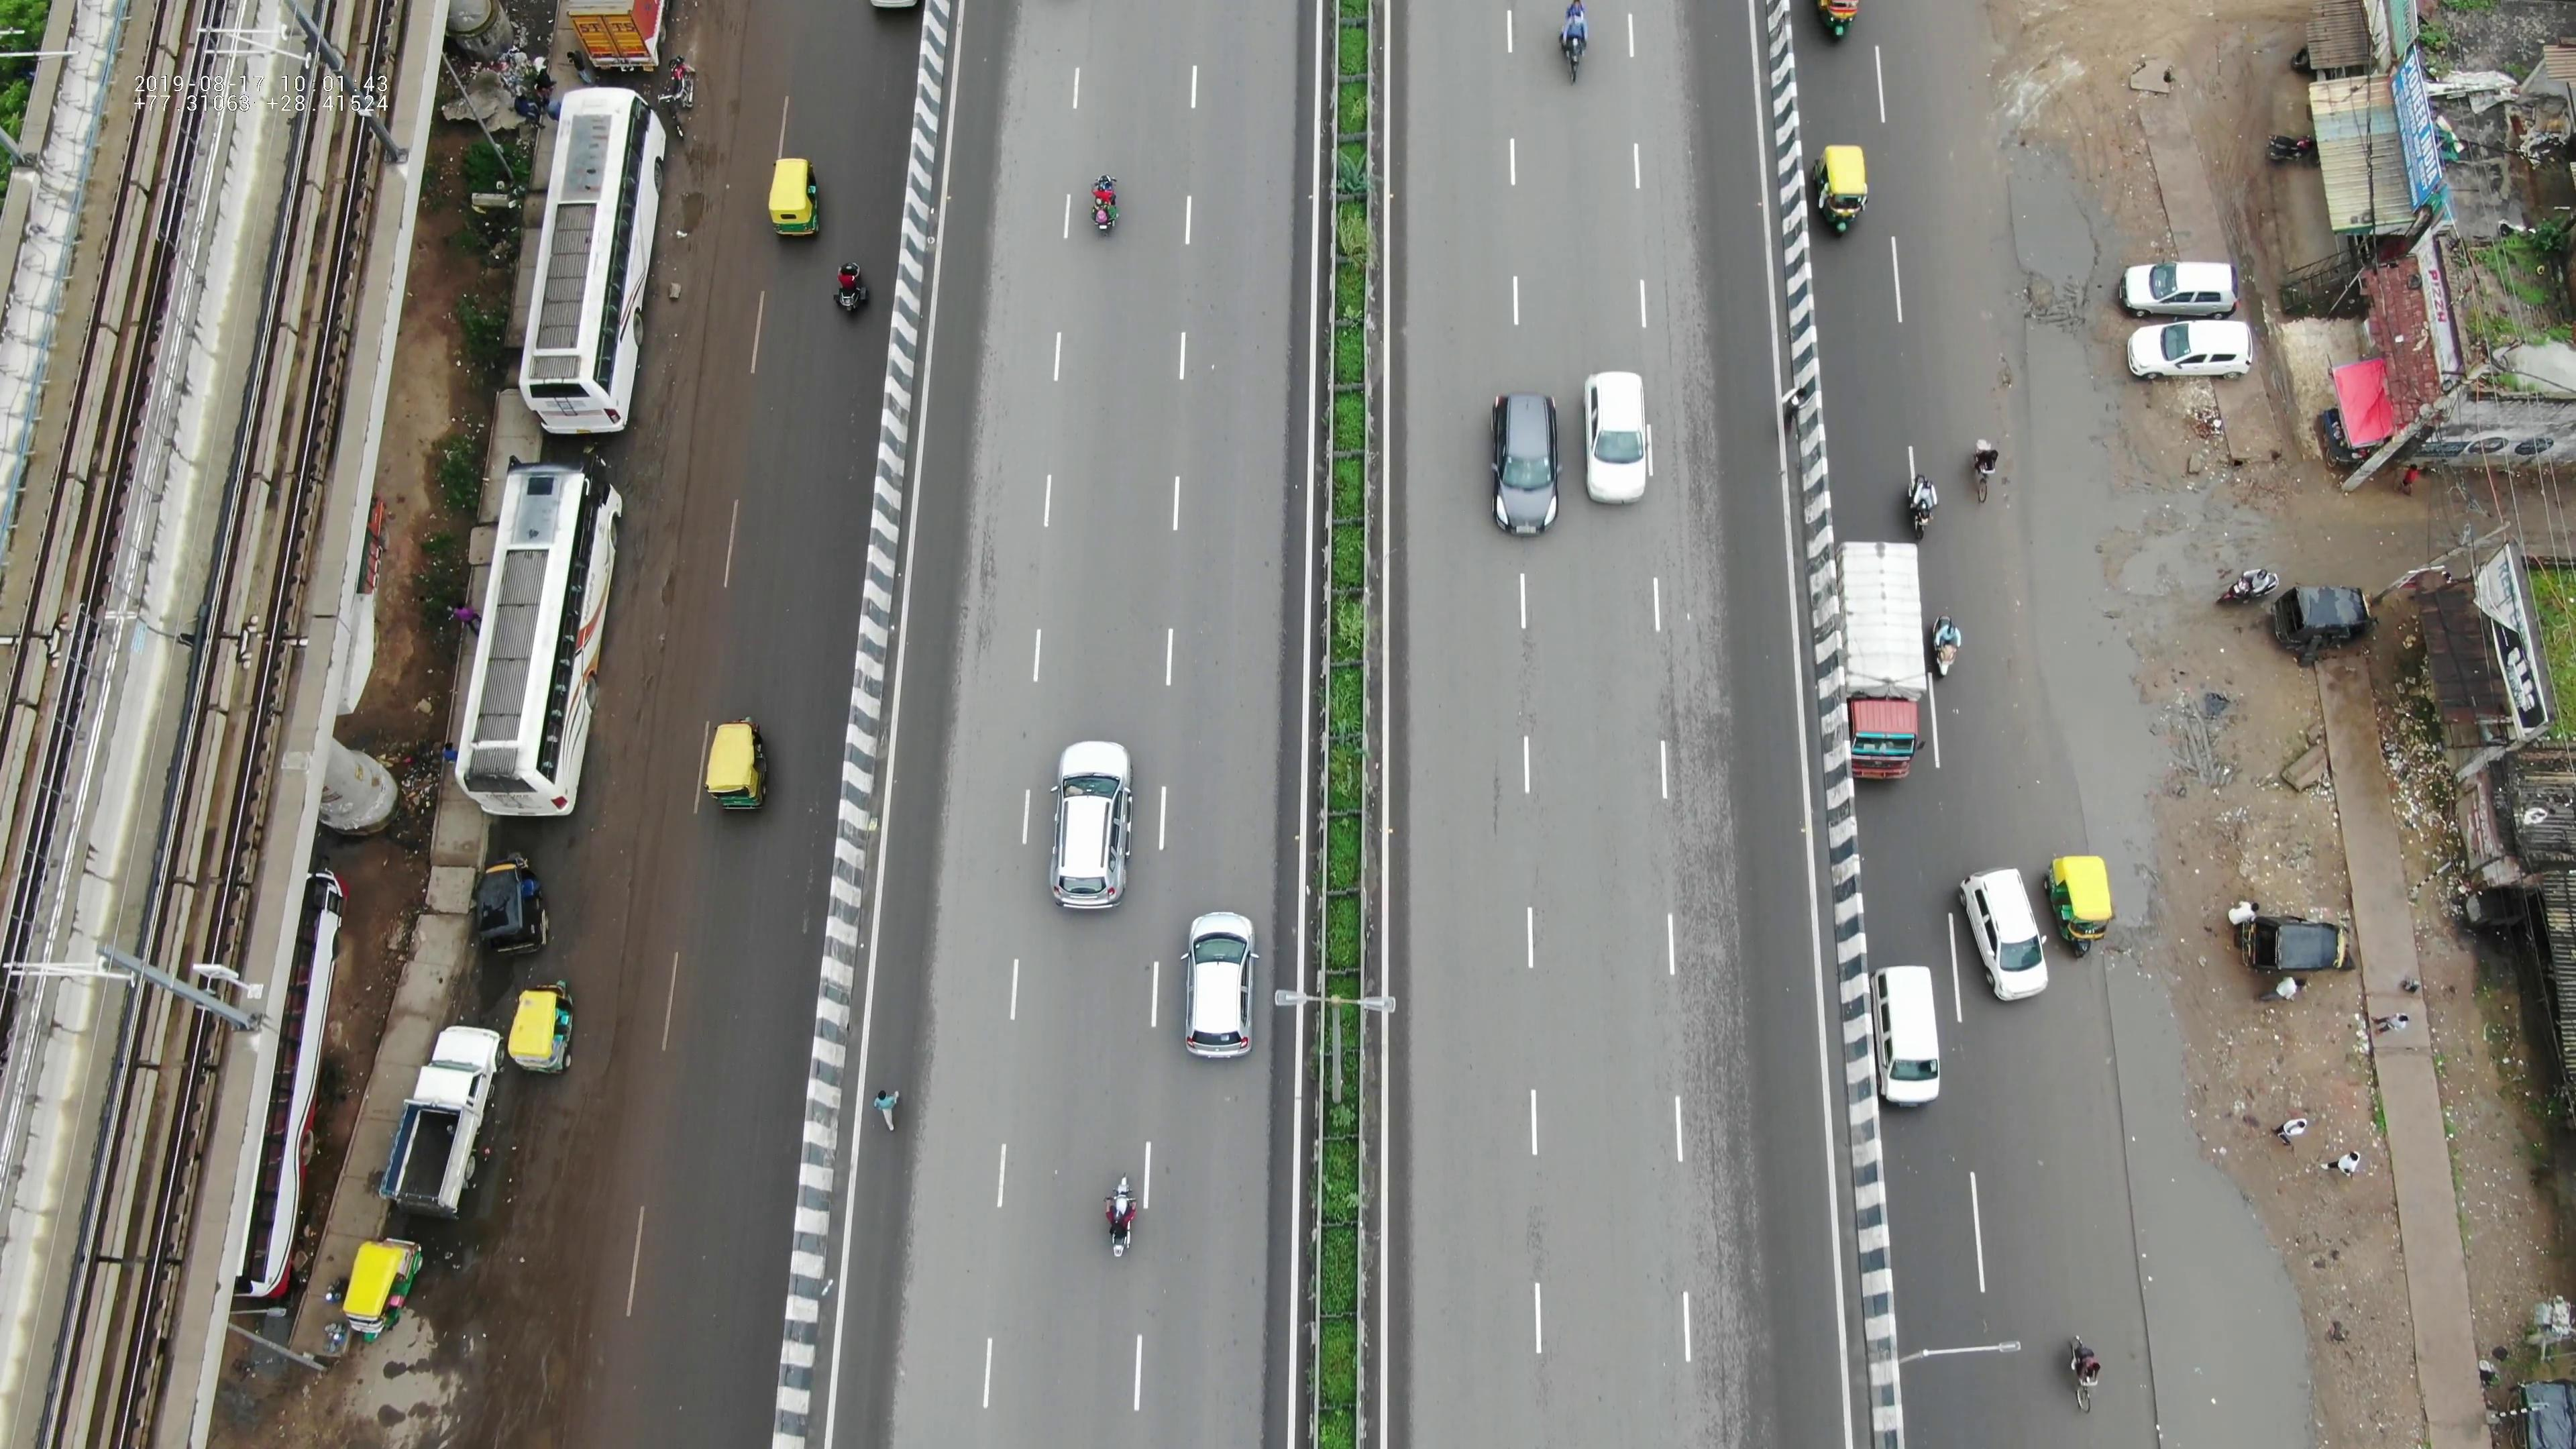Muddy_road: (628, 389, 771, 695), (582, 833, 711, 1120), (676, 150, 766, 341)
Waterlogging: (2072, 1065, 2316, 1334), (2001, 356, 2155, 770), (1971, 113, 2102, 313)
